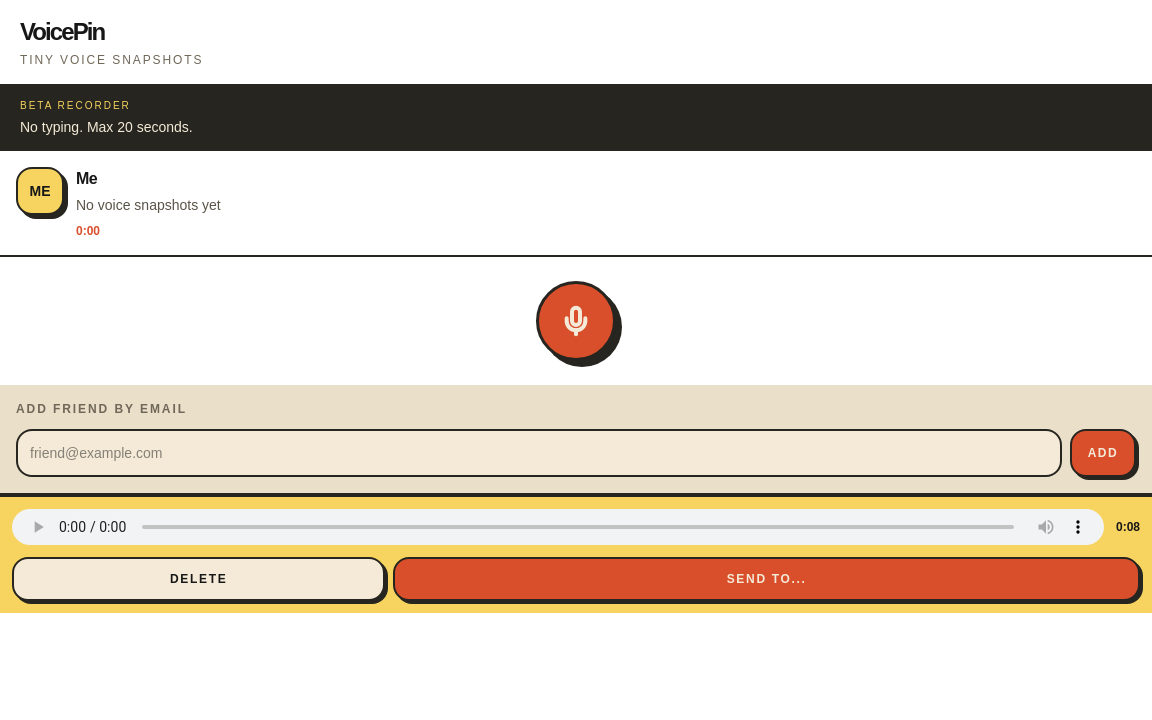
Test: ConversationHome › opens recorder overlay from home
This screenshot has width=1152, height=720.
Click the button named "Record" at [576, 321], box [536,281,616,361]
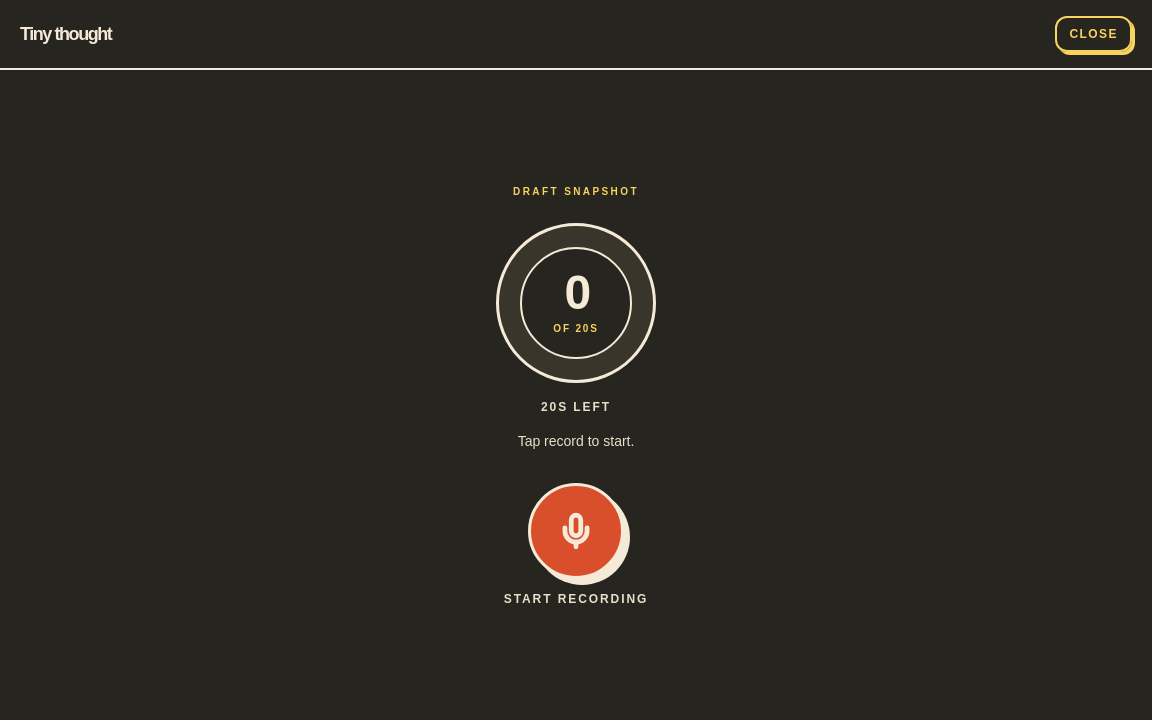
Expected: the heading "Tiny thought" is shown, [20,20,111,48]
